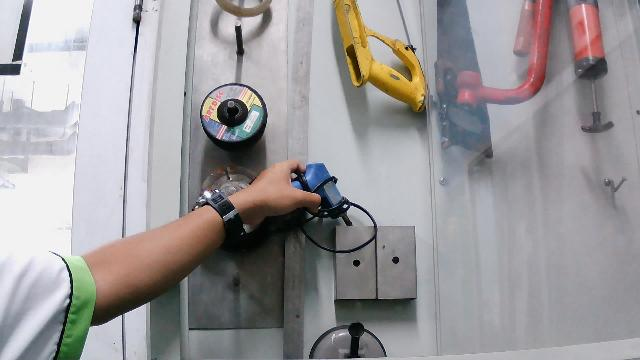solder_electrical: (259, 159, 380, 256)
